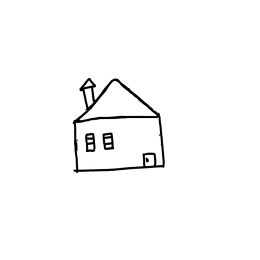chimney: (75, 72, 105, 112)
closed_window: (81, 129, 100, 159), (100, 128, 119, 154)
door: (139, 145, 160, 174)
roof: (60, 63, 172, 125)
small_house: (2, 0, 260, 260)
wall: (67, 112, 168, 174)
